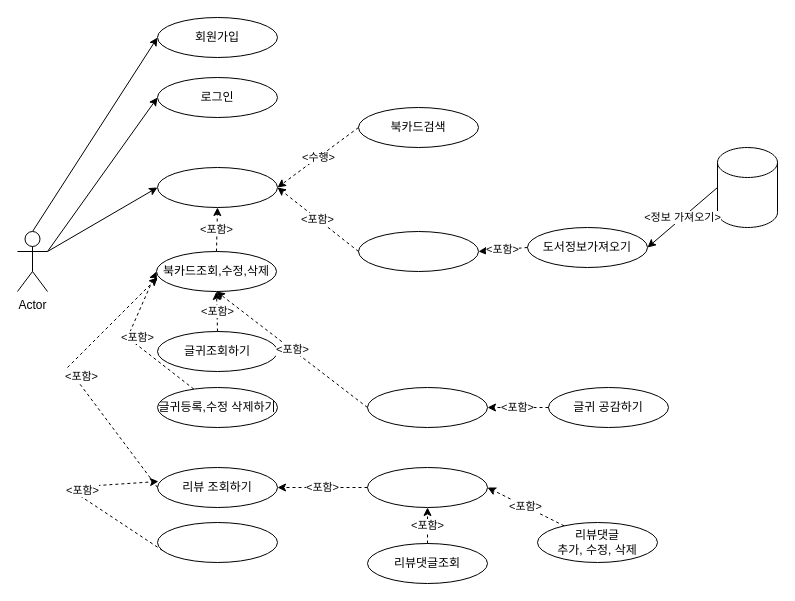
Some shapes in this 795 by 601 pixel diagram are drawn without their labels. Each missing label, with the centre of its shape:
"글귀 공유하기 글귀 가져오기" belongs at pixel 427 407.
"리뷰공유" belongs at pixel 427 487.
"리뷰작성,수정,삭제" belongs at pixel 217 542.
"북카드목록 조회" belongs at pixel 217 187.
"북카드추가" belongs at pixel 418 251.
"중앙도서관" belongs at pixel 747 187.
